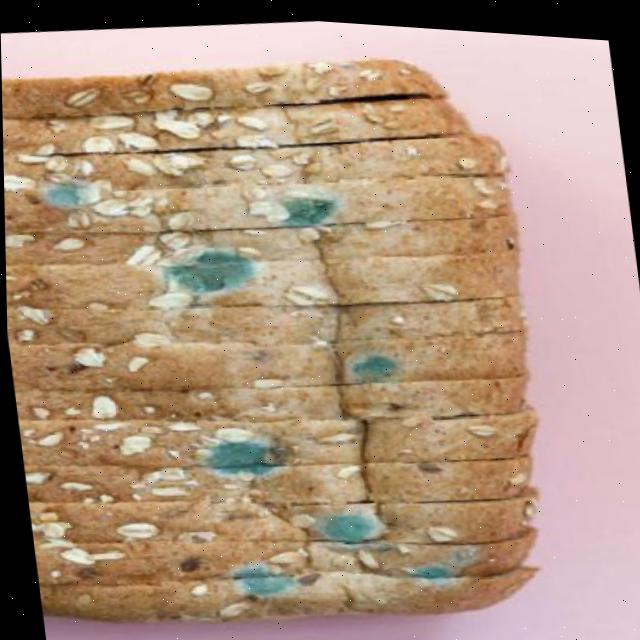Wet: (0, 0, 593, 640)
